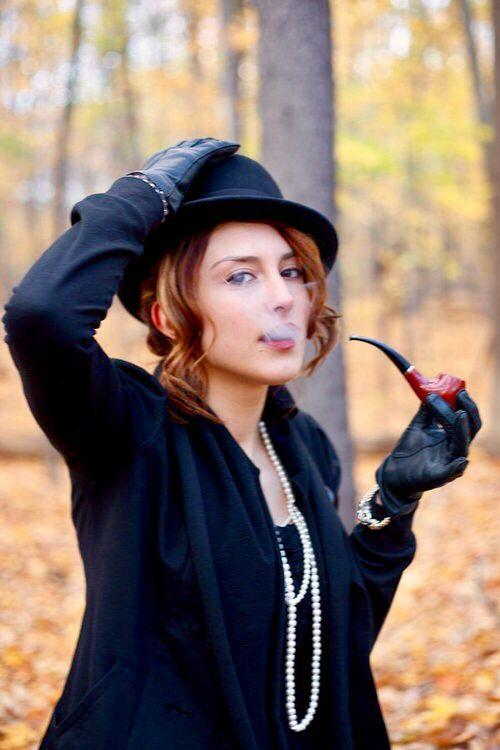trubka: (350, 336, 465, 410)
